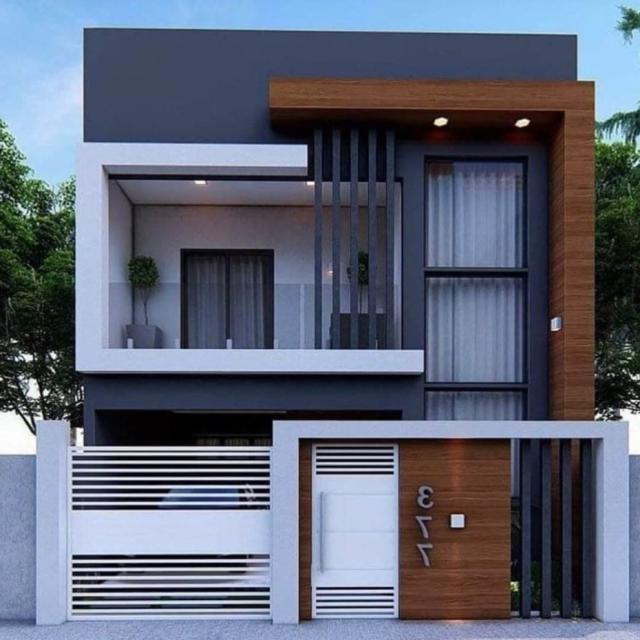Fachada: (39, 28, 630, 623)
